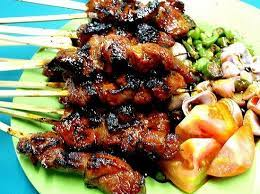sate: (15, 1, 232, 194)
